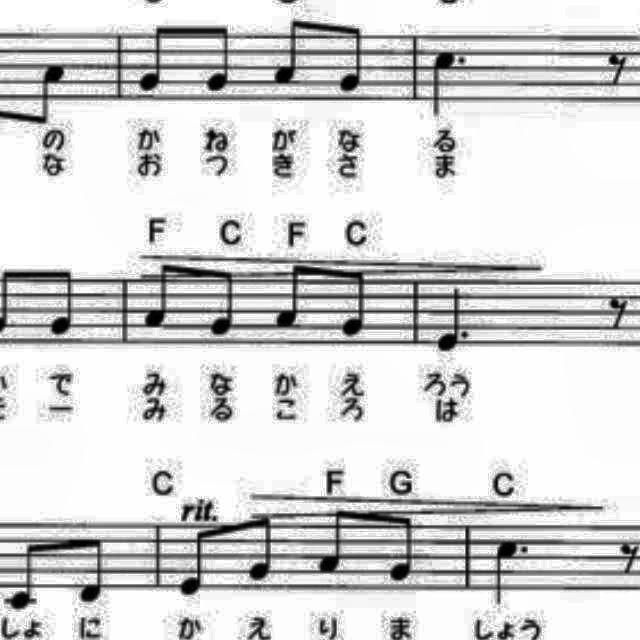Eighth-note: (266, 12, 314, 96), (132, 15, 180, 97), (136, 258, 184, 338), (314, 504, 362, 584), (378, 507, 424, 588), (0, 531, 44, 614), (332, 20, 376, 102), (176, 524, 220, 604), (270, 256, 314, 336), (69, 530, 113, 610), (44, 260, 88, 340), (241, 509, 283, 591), (335, 261, 377, 343), (201, 260, 243, 340), (200, 19, 240, 101), (30, 58, 74, 130)
Eighth-rest: (598, 287, 634, 333), (598, 46, 630, 90), (614, 536, 640, 580)
Quarter-dot: (423, 46, 472, 124), (488, 536, 536, 608), (432, 279, 476, 357)
